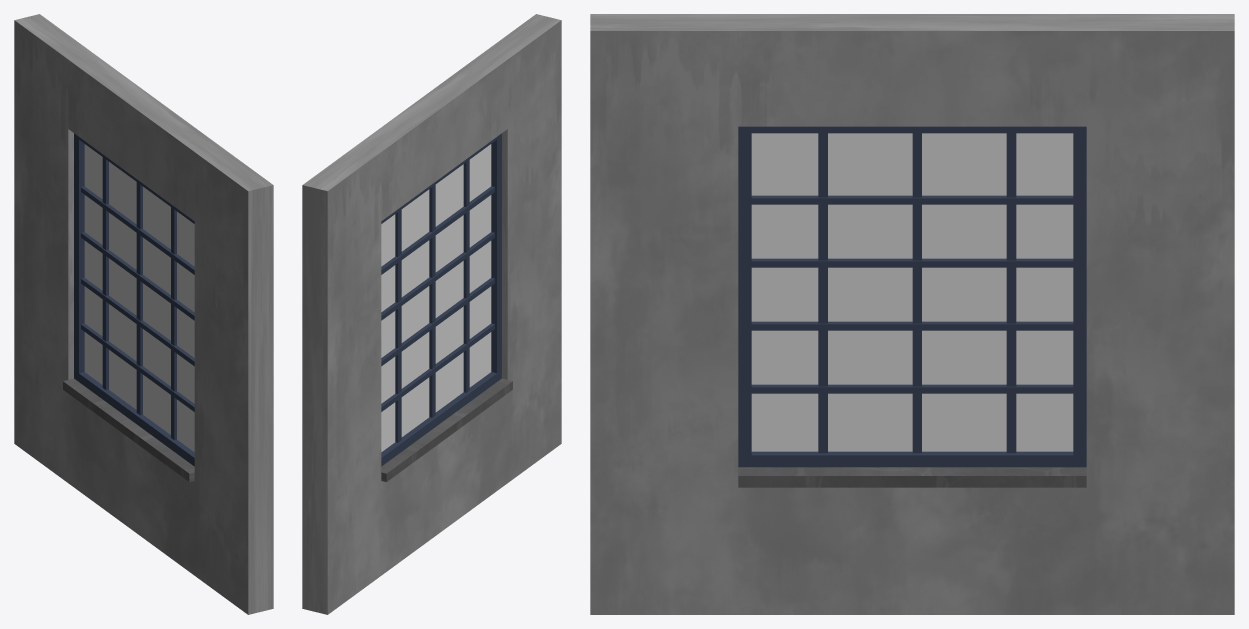
Rendered from Window_Wall_B.fbx.
3 renders of one model, left to right at view 1: azimuth 30°, elevation 25°; view 2: azimuth 150°, elevation 25°; view 3: azimuth 270°, elevation 25°, orthographic. The views are drawn at different scales.
Visible parts, largest first — view 1: Cube.071; view 2: Cube.071; view 3: Cube.071.
Boxes of the visible parts, box(x1,y1,x2,y2) form: Cube.071: box(14, 14, 273, 614); Cube.071: box(302, 14, 561, 614); Cube.071: box(590, 14, 1234, 614).
Bounding box in the file's own units: 34.98 × 400 × 400.
